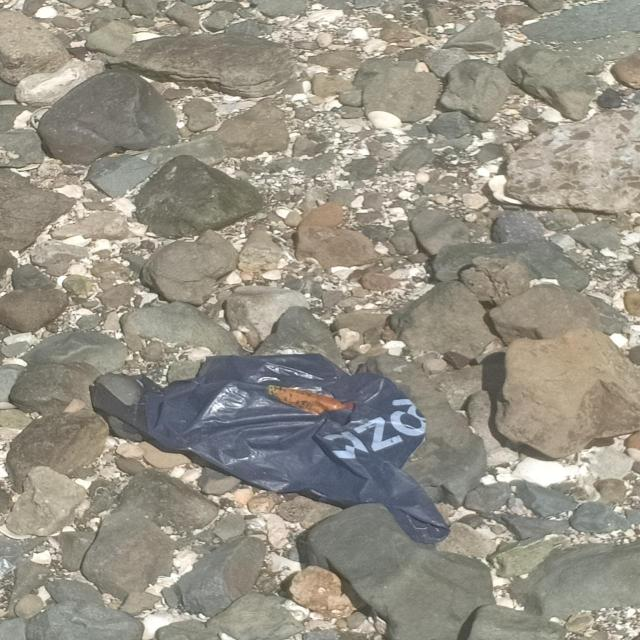plastic_waste: (90, 354, 453, 544)
